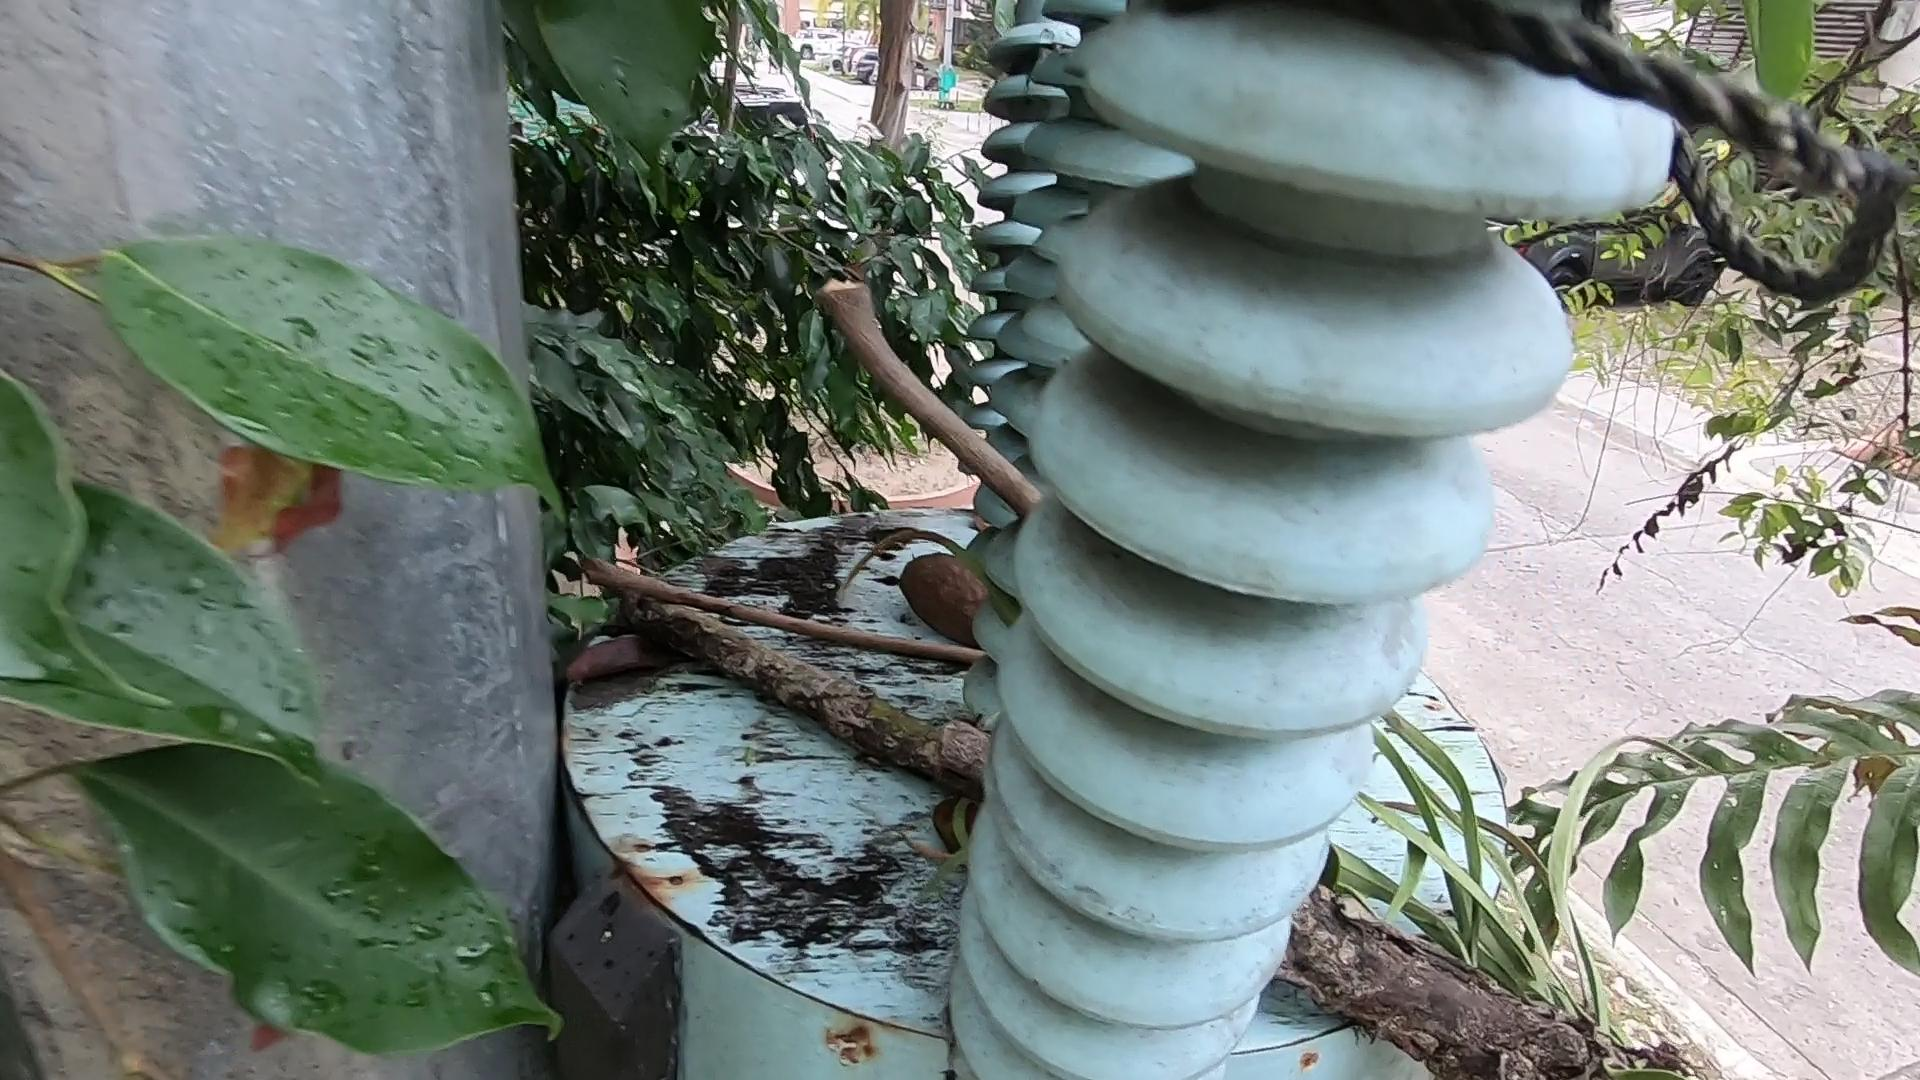branch with leaves: (618, 597, 1635, 1080)
leaf: (485, 559, 673, 723), (942, 785, 972, 874)
mahogany fruit: (864, 506, 985, 655)
tree branch: (587, 574, 1029, 671), (831, 284, 1029, 496)
